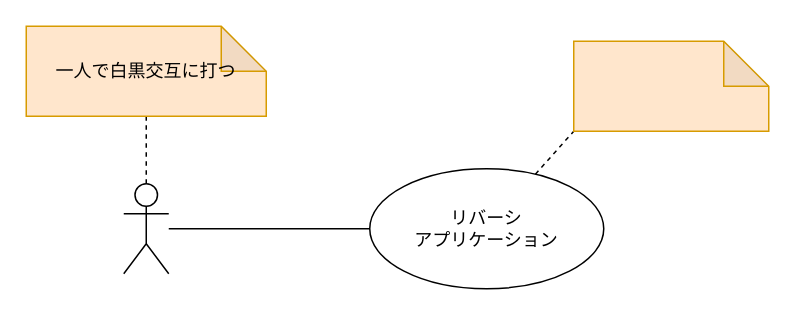
The diagram is 795 pixels wide and 332 high, and some of its shapes have lost their labels. Each missing label, with the centre of its shape:
Webアプリ: pixel 670 85
プレイヤー: pixel 145 228
